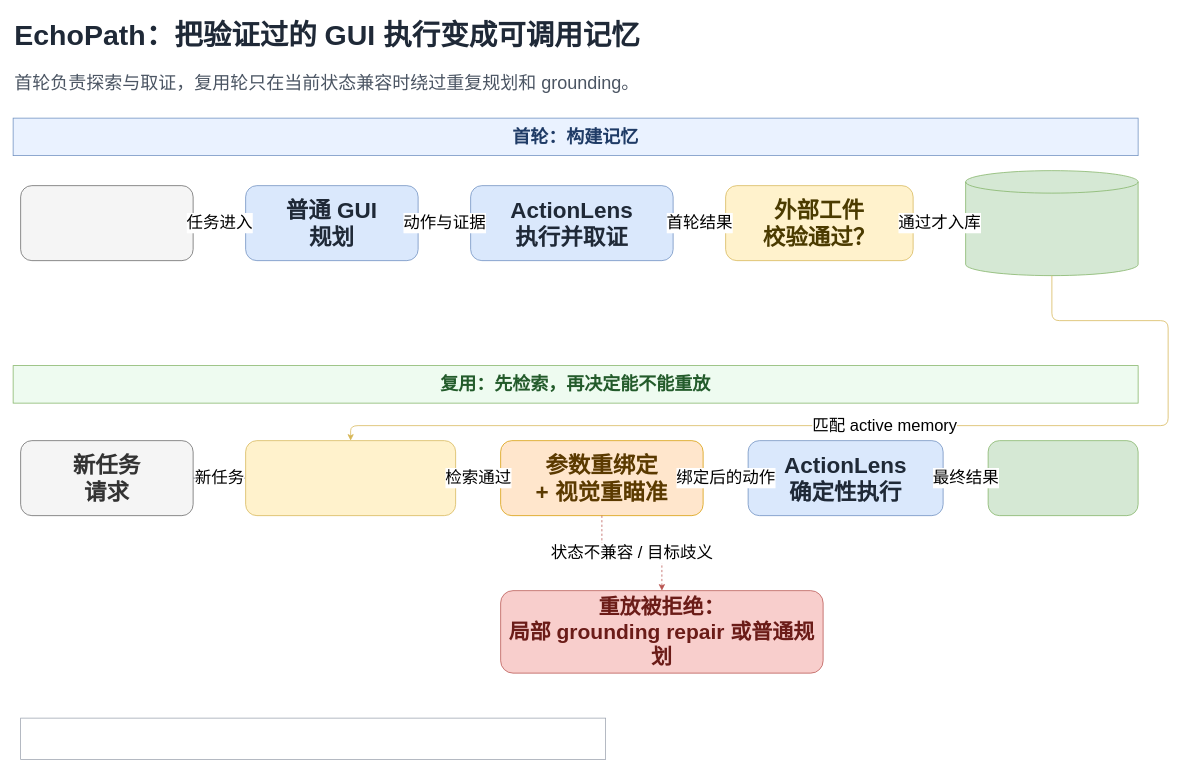
Some shapes in this 1187 by 773 pixel diagram are drawn without their labels. The centre of each missing label's shape, as x and y in pixels:
"Intent retrieval + compatibility gate" belongs at (350,478).
"Memory Repository active episode" belongs at (1051,223).
"任务 目标" belongs at (106,223).
"目标工件 再次校验" belongs at (1062,478).
"蓝：执行模块 黄：检索/门控 绿：验证与可复用 红：安全回退" belongs at (313,738).
